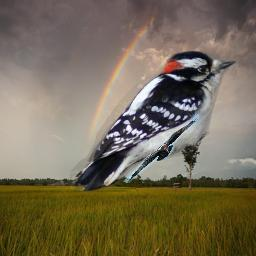Crow: (123, 111, 201, 183)
Woodpecker: (69, 51, 236, 191)
